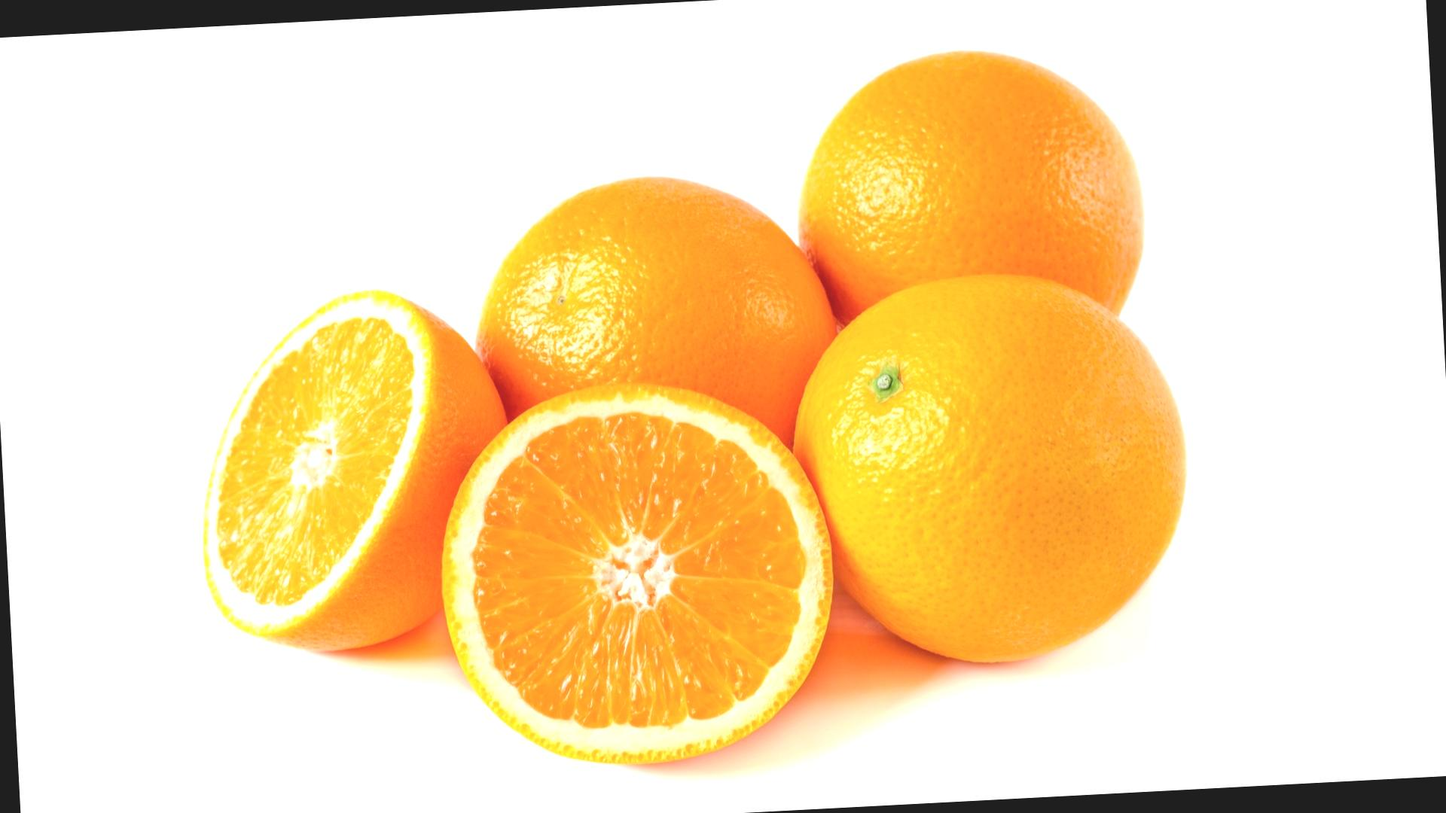Orange Ripe: (774, 238, 1239, 716), (412, 337, 884, 796), (110, 266, 555, 681), (449, 122, 895, 505), (757, 30, 1156, 340)
